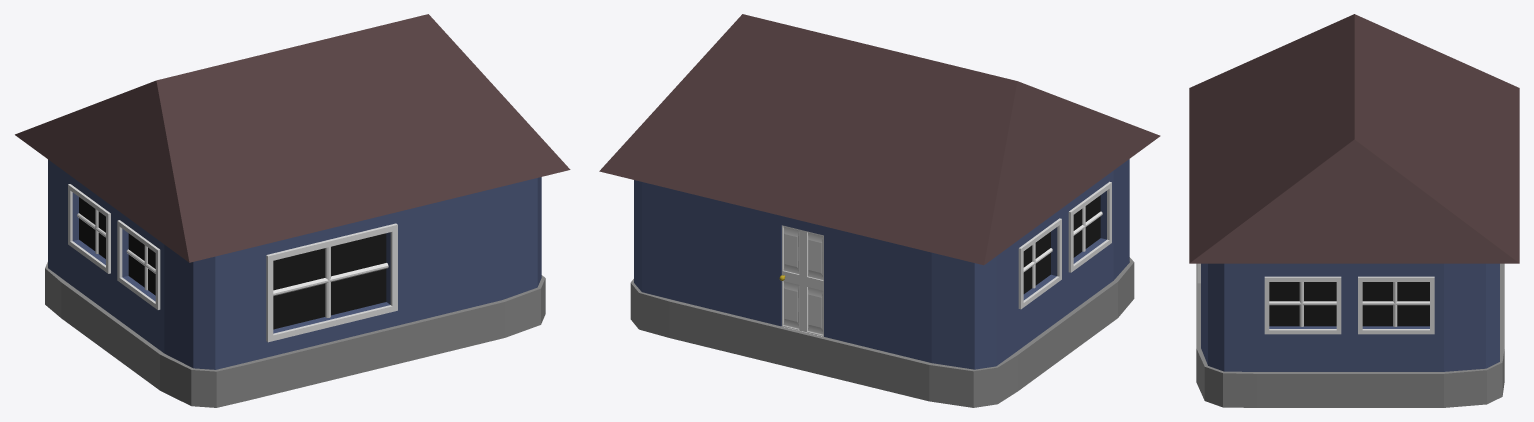
File: house_3.1.fbx
3 views of the same model, side by side, from view 1: azimuth 30°, elevation 25°; view 2: azimuth 150°, elevation 25°; view 3: azimuth 270°, elevation 25° (orthographic). The views are drawn at different scales.
Parts seen in each view (by area): view 1: house_3:pPlane79; view 2: house_3:pPlane79; view 3: house_3:pPlane79.
Boxes of the visible parts, x1,y1,x2,y2 form: house_3:pPlane79: (15, 14, 570, 407); house_3:pPlane79: (599, 14, 1160, 407); house_3:pPlane79: (1189, 14, 1519, 407).
Size of the model in its own units: 155698 by 101834 by 123897.
